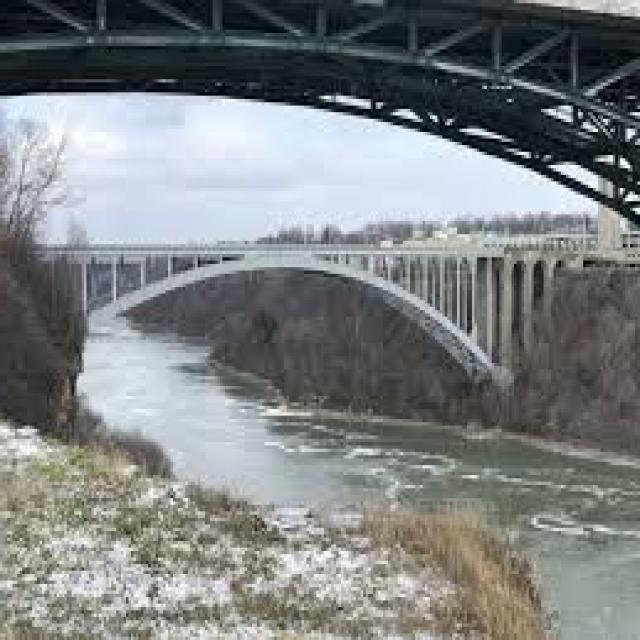Bridges: (0, 178, 640, 442)
